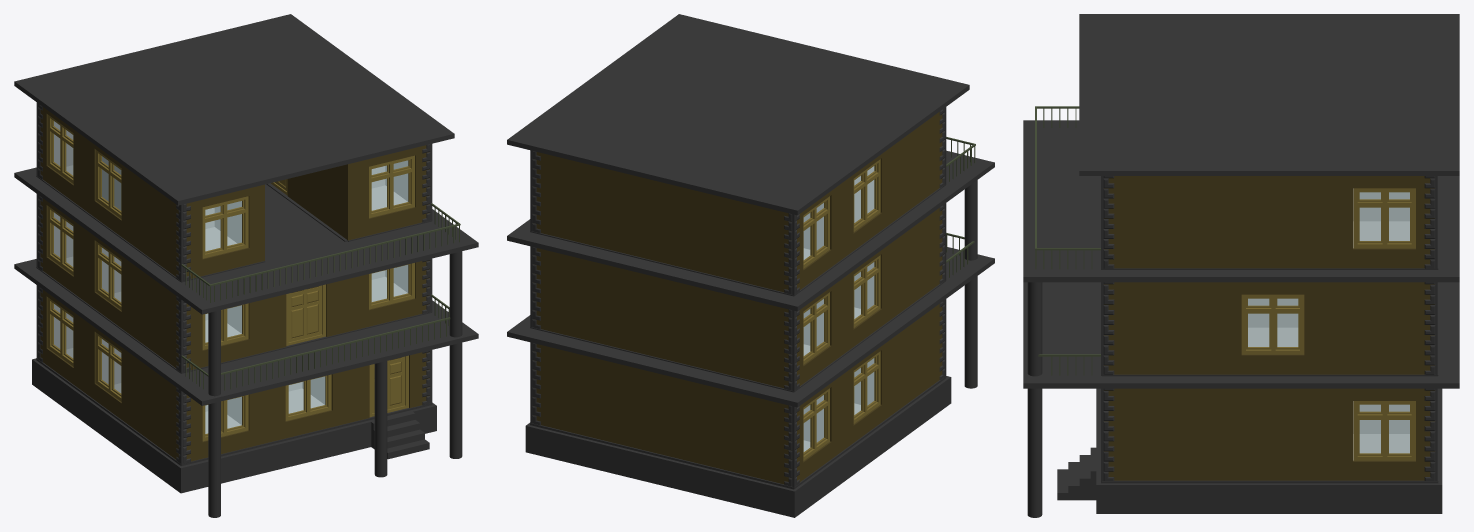
The model's file is house_lowpoly_3.glb.
The picture shows the model from 3 angles, left to right: view 1: azimuth 30°, elevation 25°; view 2: azimuth 150°, elevation 25°; view 3: azimuth 270°, elevation 25°; orthographic projection. The views are drawn at different scales.
Parts seen in each view (by area): view 1: Plane.006, Plane.004, Plane.001, Cube.024, wall.011, wall.013, wall.002, wall.006, wall.001, wall.008, wall.018, wall.010 (+31 smaller); view 2: Plane.006, Cube.024, wall.005, wall.017, wall.016, Plane.004, Plane.001, wall.020, Cube.023, Cube.055, wall.004, wall.014 (+21 smaller); view 3: Plane.006, Plane.004, Plane.001, Cube.024, Cube.110, Cube.111, wall.008, Cube.109, wall.003, wall.013, wall.009, wall.004 (+13 smaller).
Part boxes in pixels (x1=…): Plane.006: x1=14, y1=14, x2=454, y2=205; Plane.004: x1=14, y1=167, x2=478, y2=314; Plane.001: x1=14, y1=259, x2=478, y2=405; Cube.024: x1=32, y1=358, x2=436, y2=493; wall.011: x1=133, y1=173, x2=264, y2=278; wall.013: x1=300, y1=145, x2=429, y2=240; wall.002: x1=133, y1=356, x2=264, y2=461; wall.006: x1=133, y1=265, x2=264, y2=369; wall.001: x1=265, y1=370, x2=347, y2=443; wall.008: x1=348, y1=260, x2=429, y2=331; wall.018: x1=85, y1=321, x2=133, y2=428; wall.010: x1=85, y1=230, x2=133, y2=336; Plane.006: x1=507, y1=14, x2=969, y2=215; Cube.024: x1=525, y1=376, x2=951, y2=517; wall.005: x1=706, y1=374, x2=844, y2=484; wall.017: x1=706, y1=182, x2=844, y2=292; wall.016: x1=706, y1=278, x2=844, y2=388; Plane.004: x1=507, y1=150, x2=994, y2=311; Plane.001: x1=507, y1=247, x2=994, y2=407; wall.020: x1=619, y1=172, x2=706, y2=273; Cube.023: x1=619, y1=364, x2=706, y2=465; Cube.055: x1=619, y1=268, x2=706, y2=369; wall.004: x1=533, y1=344, x2=618, y2=443; wall.014: x1=533, y1=152, x2=618, y2=251; Plane.006: x1=1079, y1=14, x2=1459, y2=175; Plane.004: x1=1023, y1=120, x2=1459, y2=282; Plane.001: x1=1023, y1=282, x2=1459, y2=388; Cube.024: x1=1096, y1=388, x2=1442, y2=513; Cube.110: x1=1213, y1=388, x2=1325, y2=480; Cube.111: x1=1213, y1=176, x2=1325, y2=268; wall.008: x1=1104, y1=282, x2=1213, y2=374; Cube.109: x1=1325, y1=282, x2=1434, y2=374; wall.003: x1=1104, y1=388, x2=1213, y2=480; wall.013: x1=1104, y1=176, x2=1213, y2=268; wall.009: x1=1213, y1=282, x2=1325, y2=374; wall.004: x1=1325, y1=388, x2=1434, y2=480.
Size of what is drawn, in the model's own units: 6.65 by 7 by 7.81.
